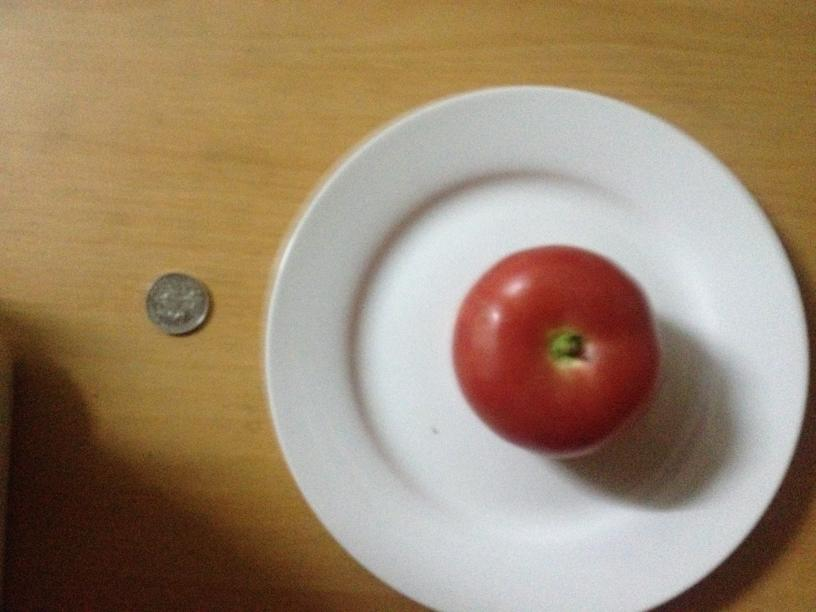coin: (138, 271, 214, 336)
tomato: (458, 247, 659, 454)
